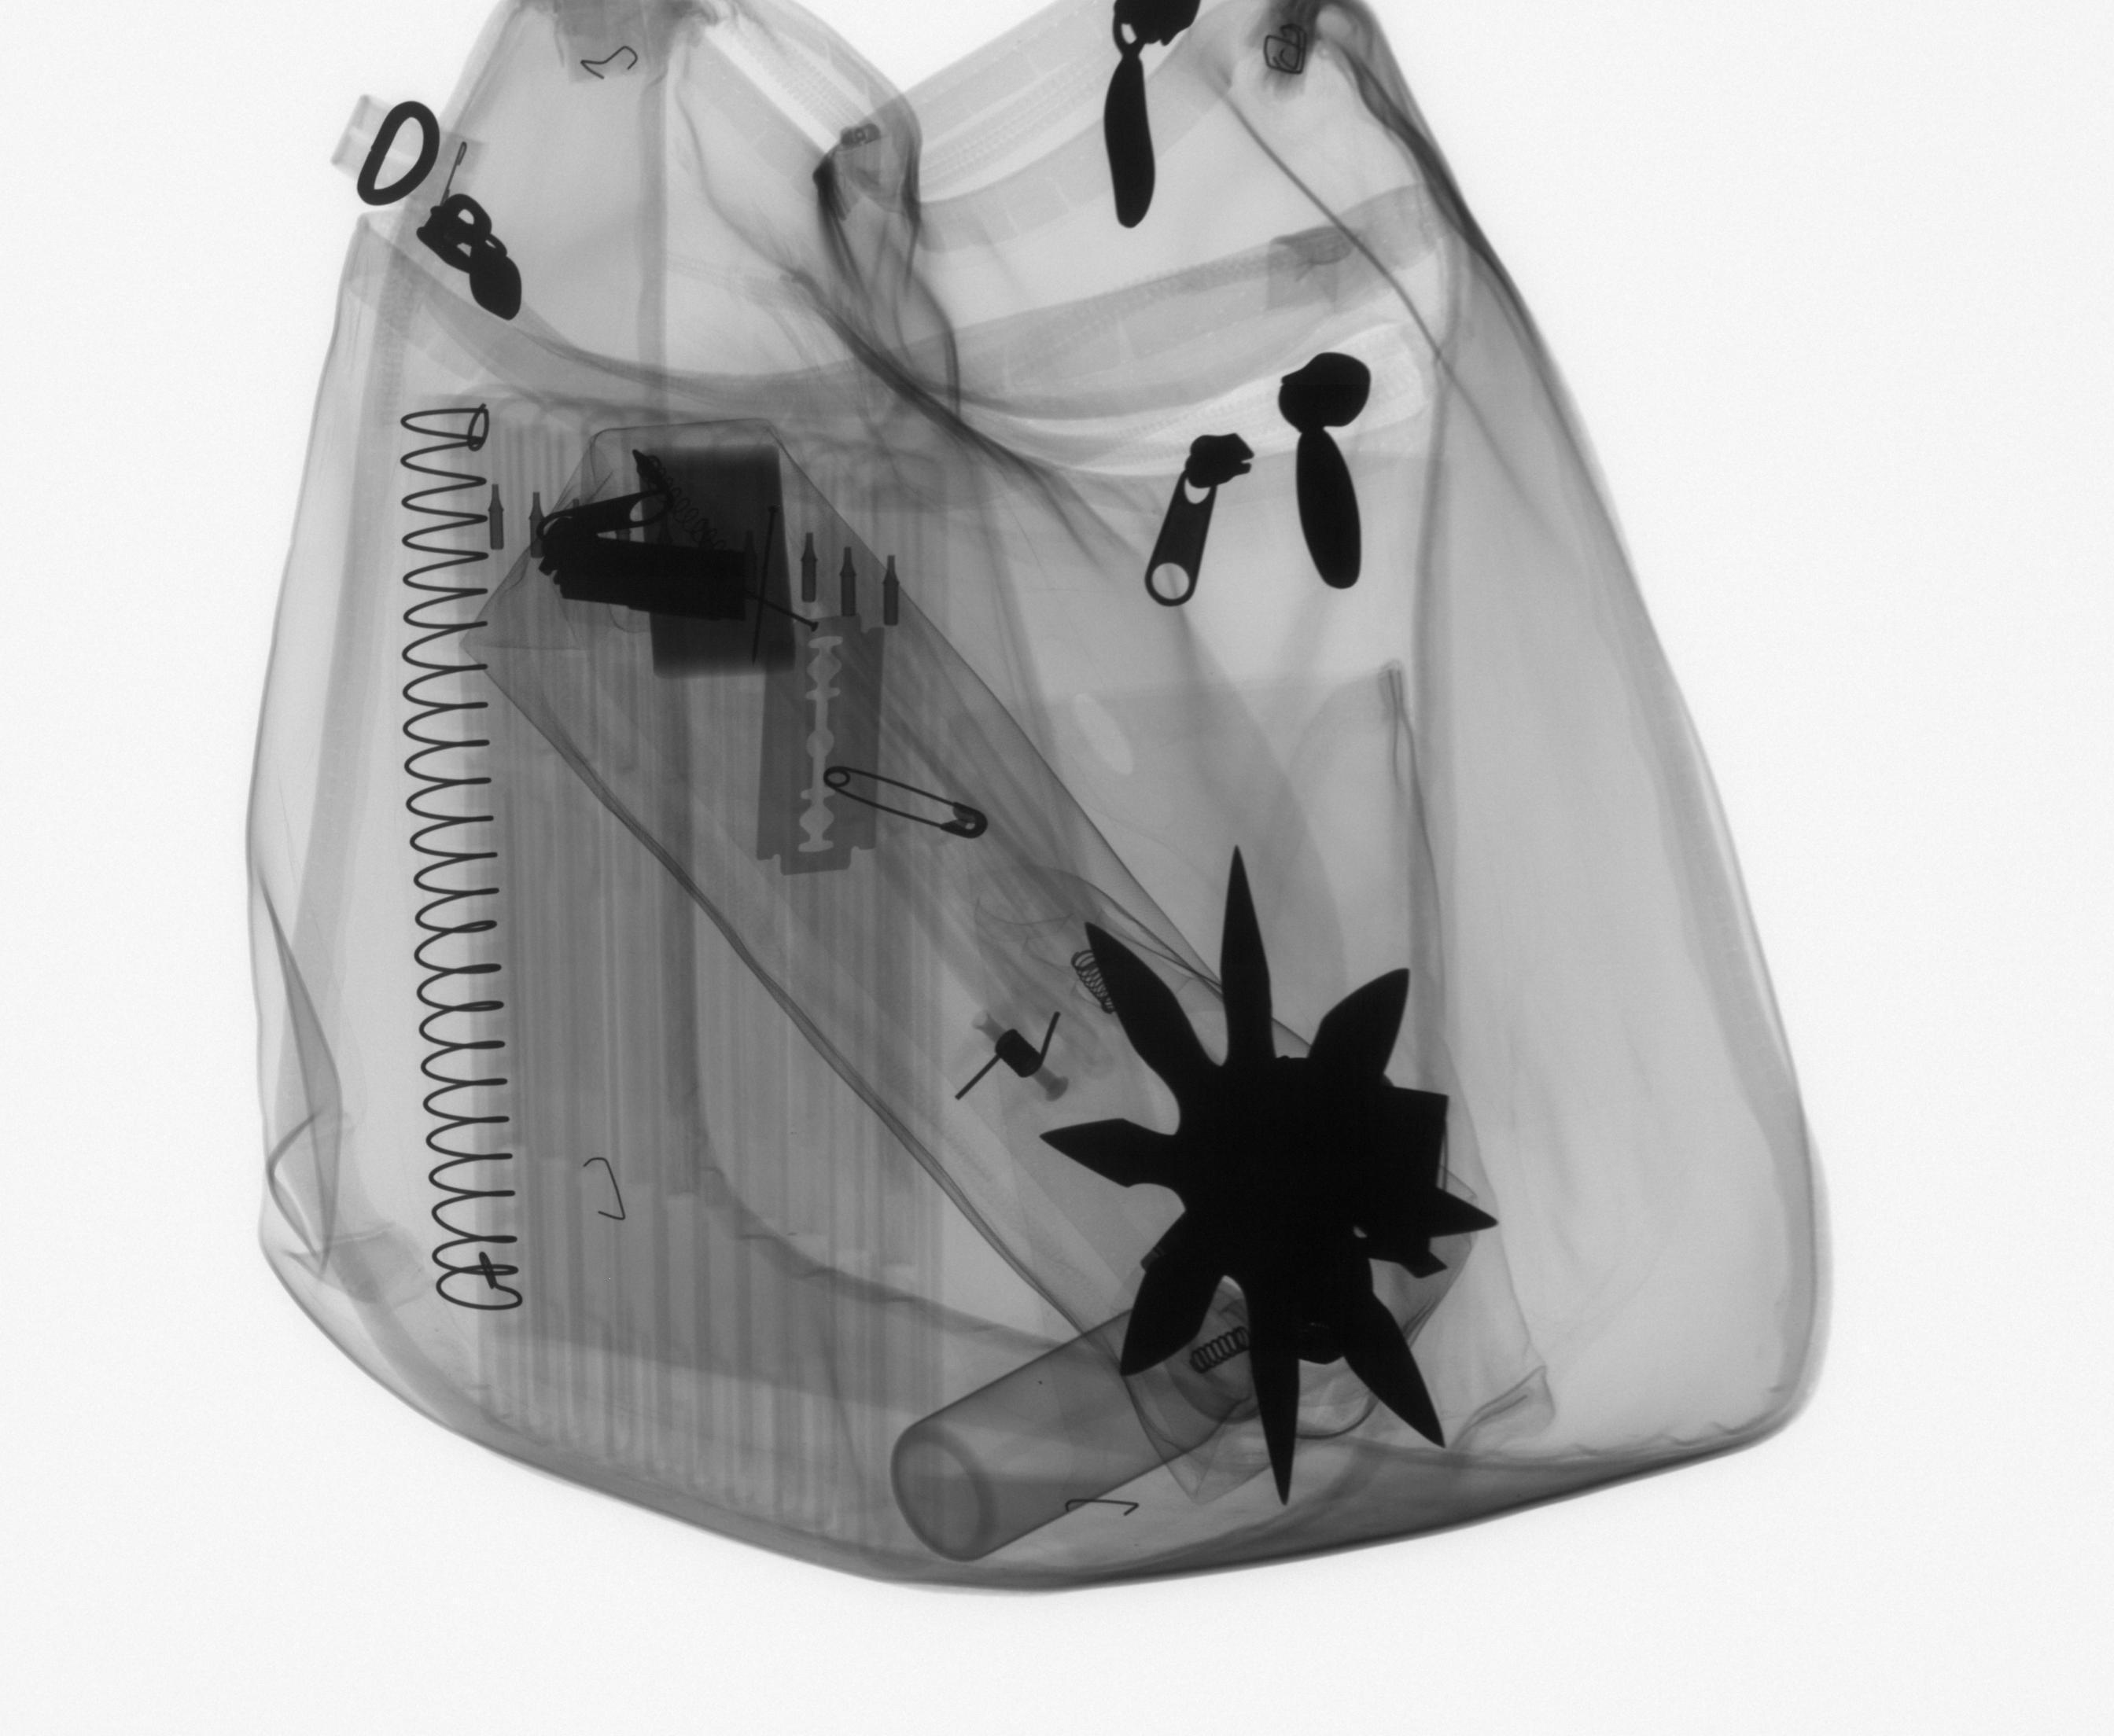RazorBlade: (748, 606, 890, 888)
Shuriken: (1029, 839, 1508, 1513)
